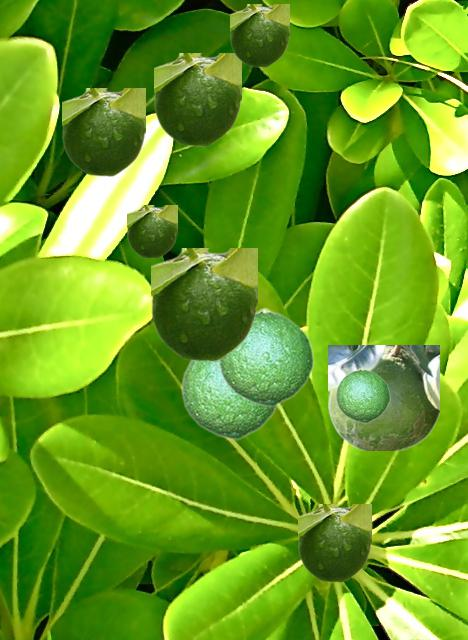dalandan: (151, 248, 256, 360), (328, 345, 438, 449), (218, 307, 313, 406), (154, 53, 240, 145), (180, 361, 279, 439), (62, 88, 144, 175), (298, 504, 370, 581), (230, 4, 288, 66), (335, 367, 389, 422), (127, 205, 176, 257)
